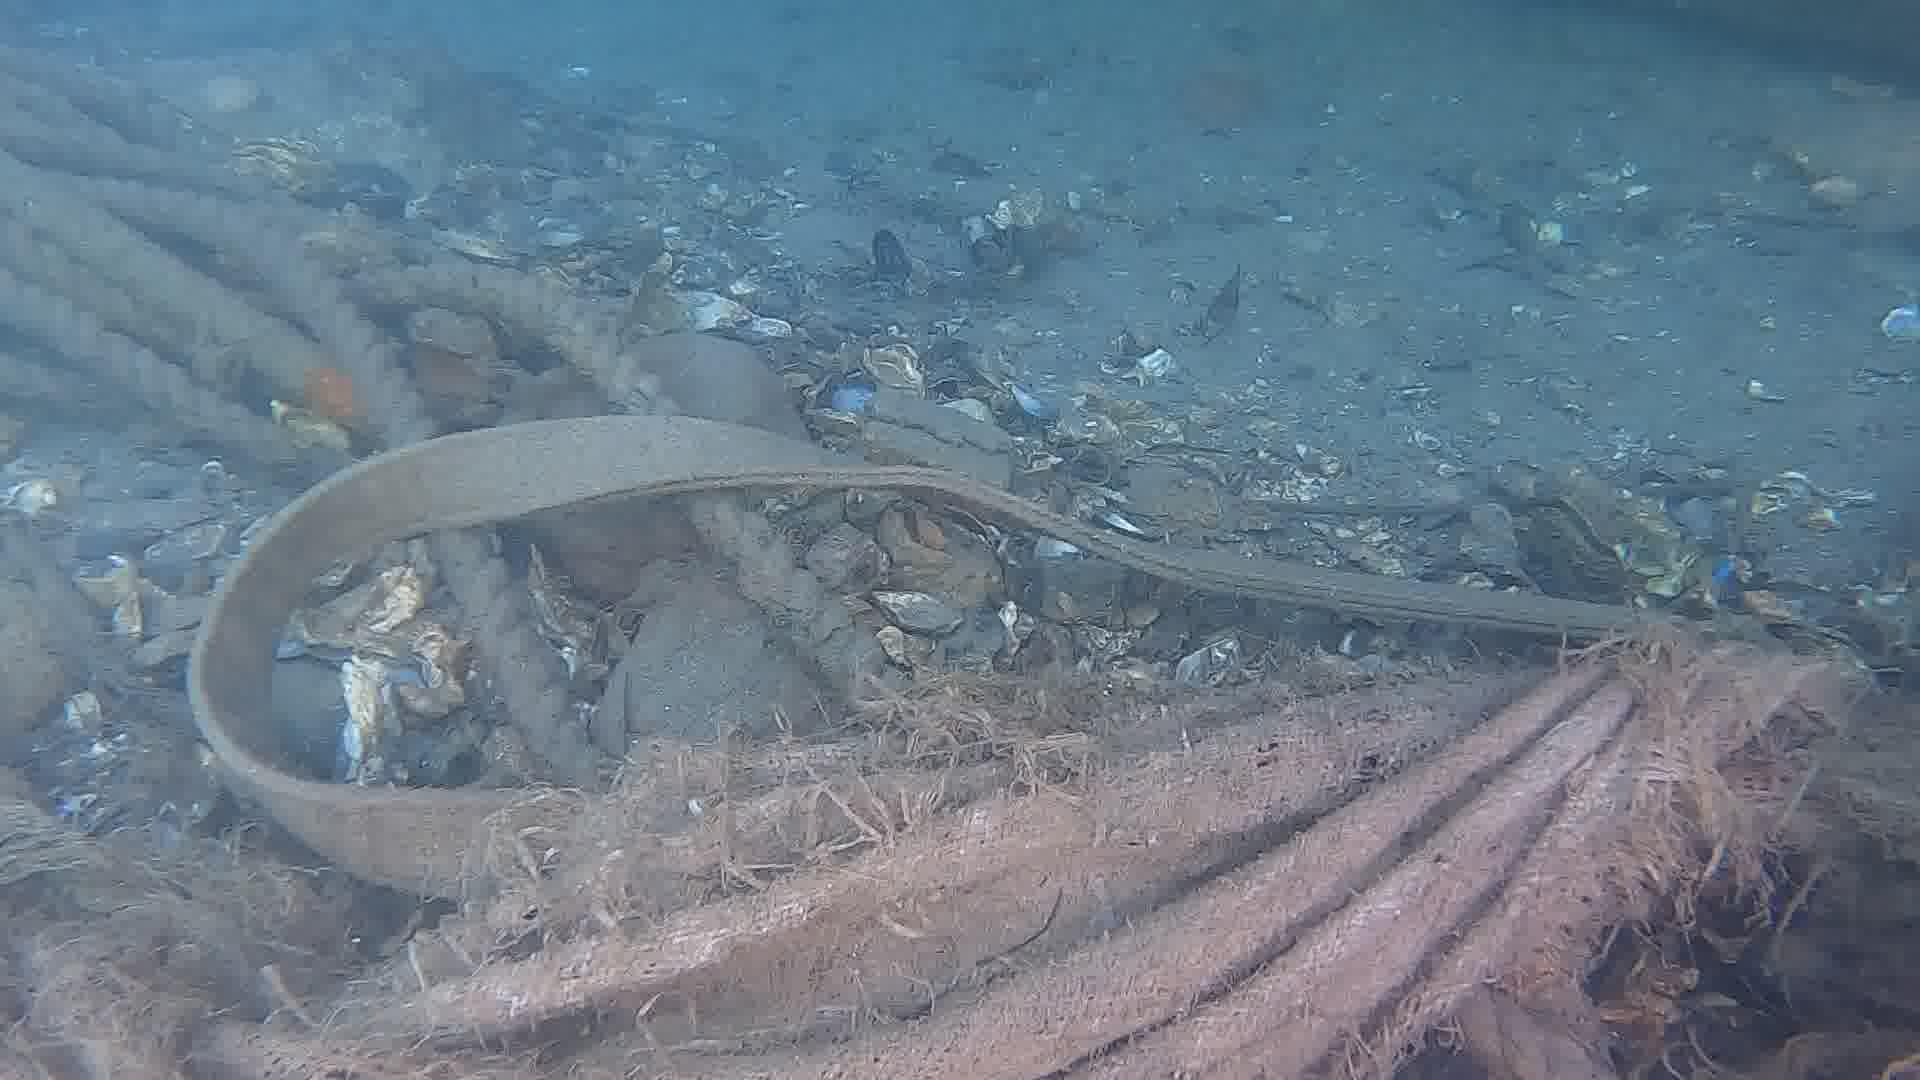bundle of ropes: (0, 37, 920, 783)
